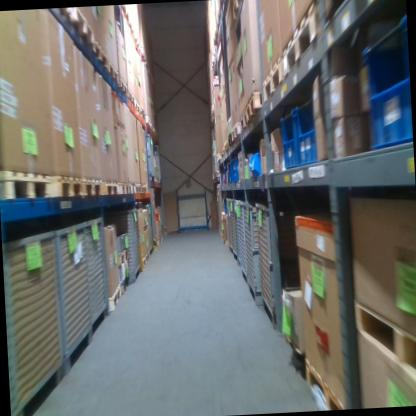pallet: (351, 292, 416, 380), (281, 0, 320, 82), (304, 354, 341, 409), (0, 169, 51, 202), (61, 7, 94, 55), (261, 48, 287, 106), (50, 173, 83, 199), (89, 33, 109, 71), (245, 91, 264, 122), (107, 282, 121, 312), (107, 58, 120, 87), (82, 177, 101, 196), (100, 178, 119, 197), (116, 245, 130, 266), (118, 181, 130, 195), (128, 183, 136, 194), (145, 250, 150, 265), (143, 221, 149, 232), (141, 255, 145, 269)
small_load_carrier: (358, 14, 412, 153), (294, 98, 320, 165), (279, 103, 299, 170), (231, 154, 241, 183), (227, 159, 233, 183), (223, 165, 229, 184), (222, 198, 227, 215)
stillage: (2, 222, 67, 416), (52, 216, 96, 382), (254, 197, 291, 329), (242, 197, 275, 310), (84, 211, 111, 337), (105, 203, 142, 286), (237, 199, 252, 289), (235, 197, 244, 271), (230, 196, 239, 261), (143, 200, 153, 258), (145, 130, 156, 181), (225, 195, 234, 253), (152, 141, 162, 183)
